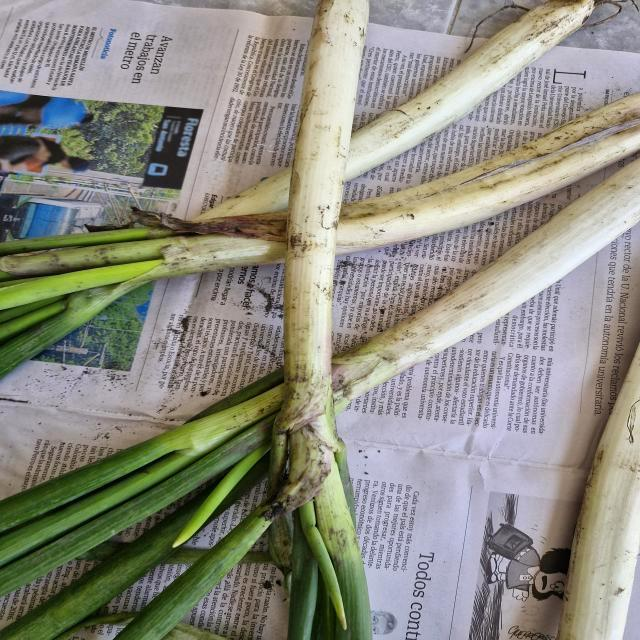green_onion: (9, 0, 640, 637)
